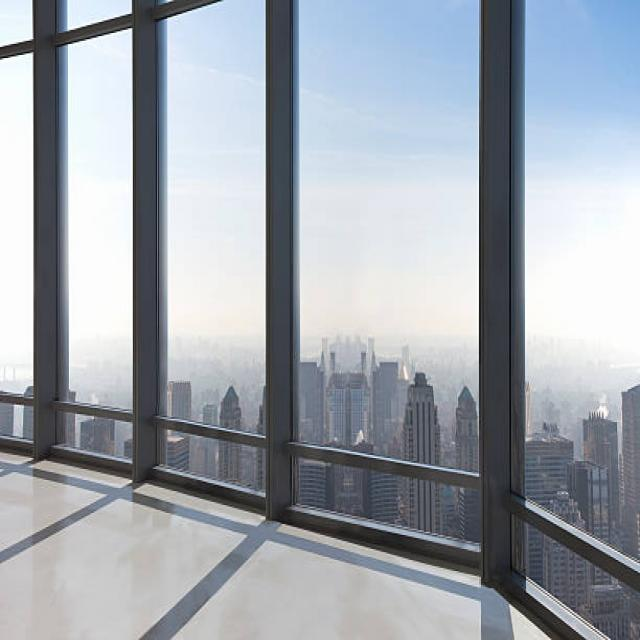Window: (290, 0, 486, 579), (154, 0, 272, 507), (51, 26, 136, 476)
